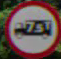Heavy Vehicles: (10, 2, 53, 47)
